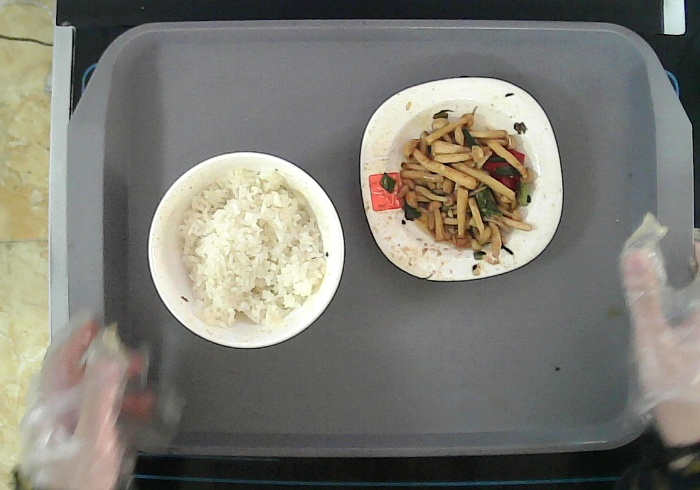SHKJ-Bai_Se_Si_Fang_Cai_Die: (358, 75, 565, 283)
SHKJ-Fan_Wan: (146, 149, 347, 350)
